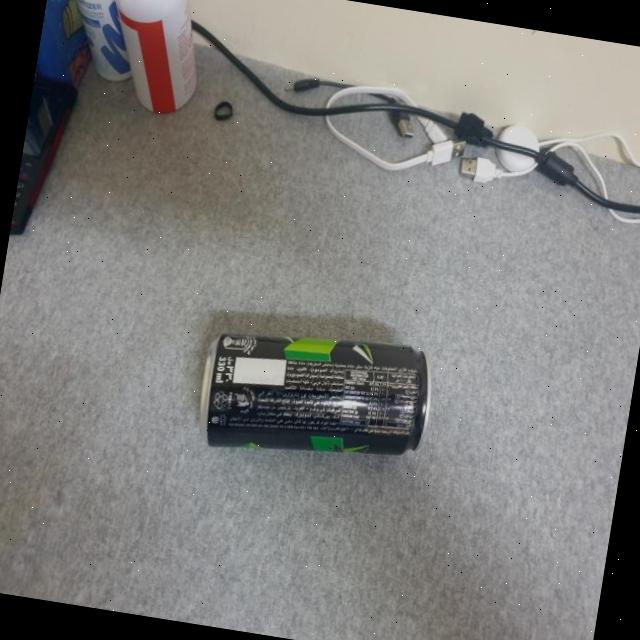trash: (197, 326, 444, 484)
